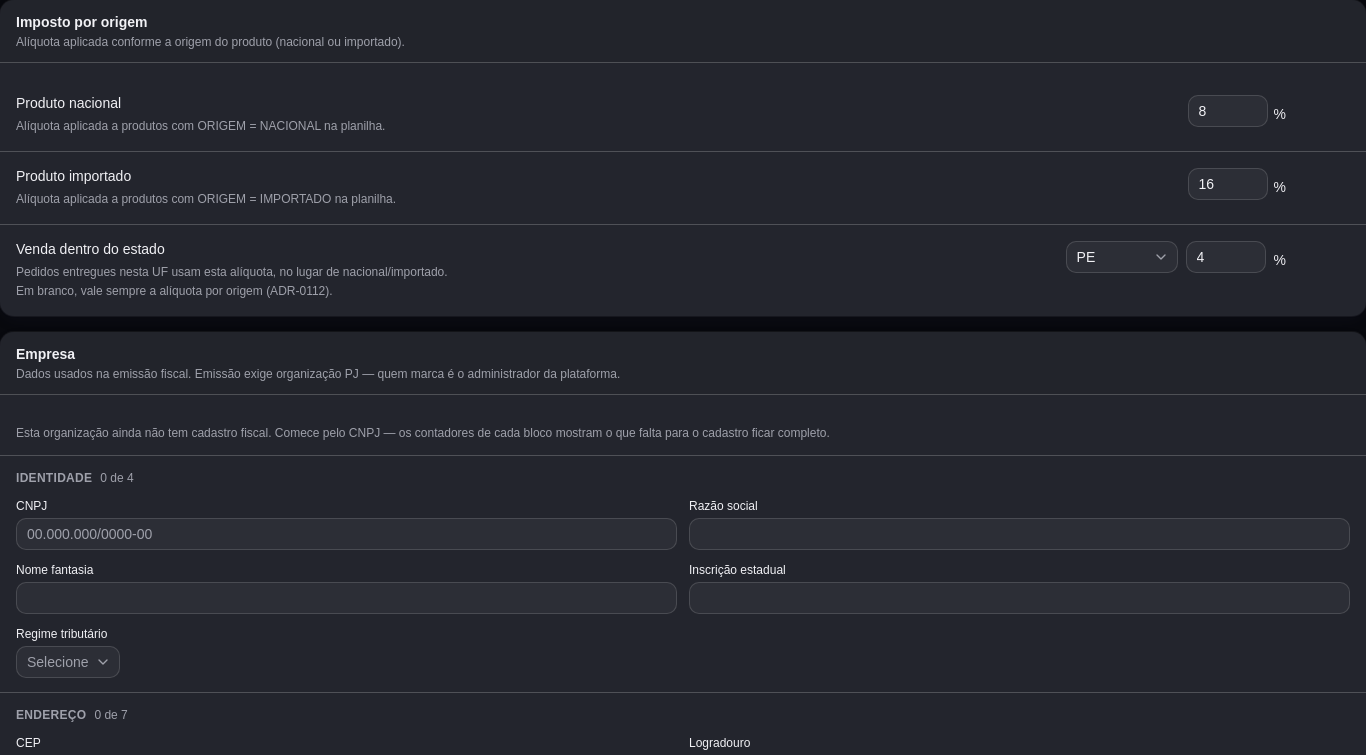
Venda dentro do estado — dropdown de UF › "Nenhuma" limpa UF e % juntos (não cai na meia-configuração)
Click the dropdown named "UF da venda dentro do estado". click: coordinates (1122, 256)
box: [1066,240,1178,272]
(page scrolled)
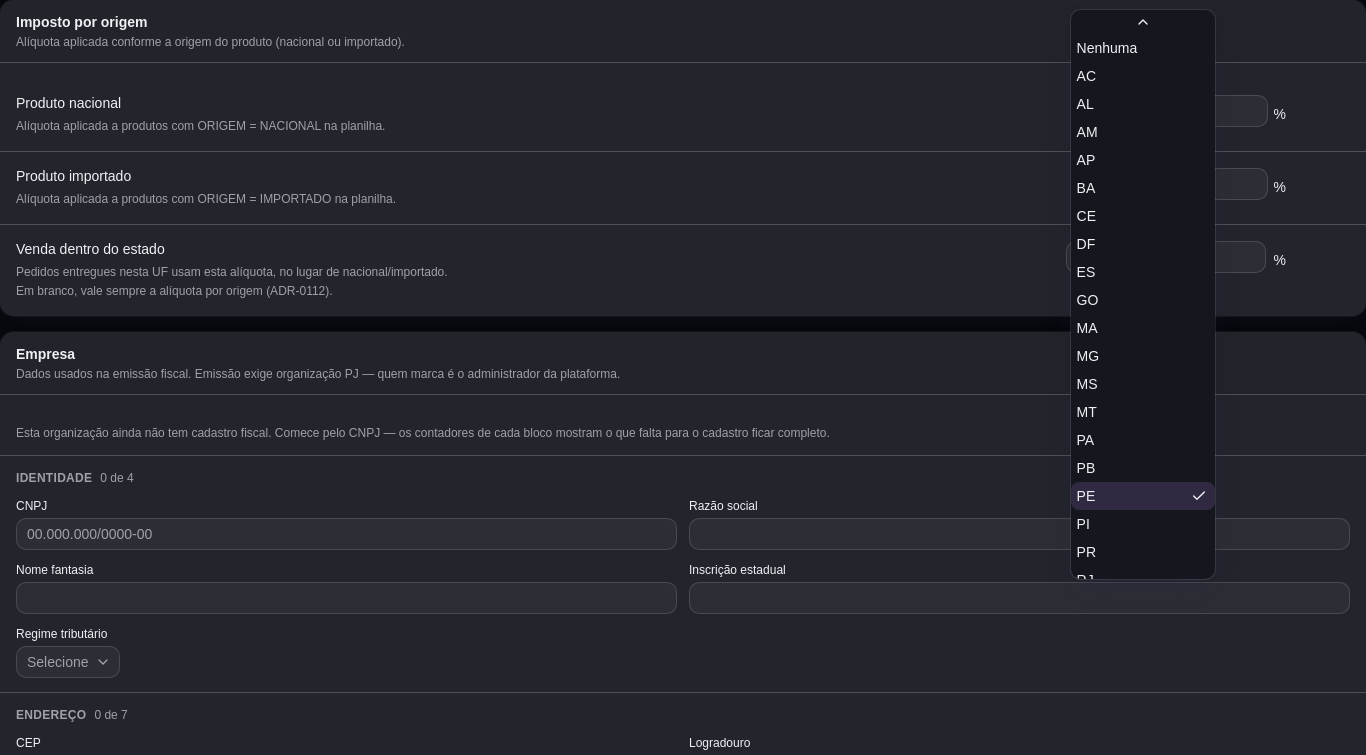
Click the option "Nenhuma". click: coordinates (1107, 48)
box: [1076,40,1137,56]
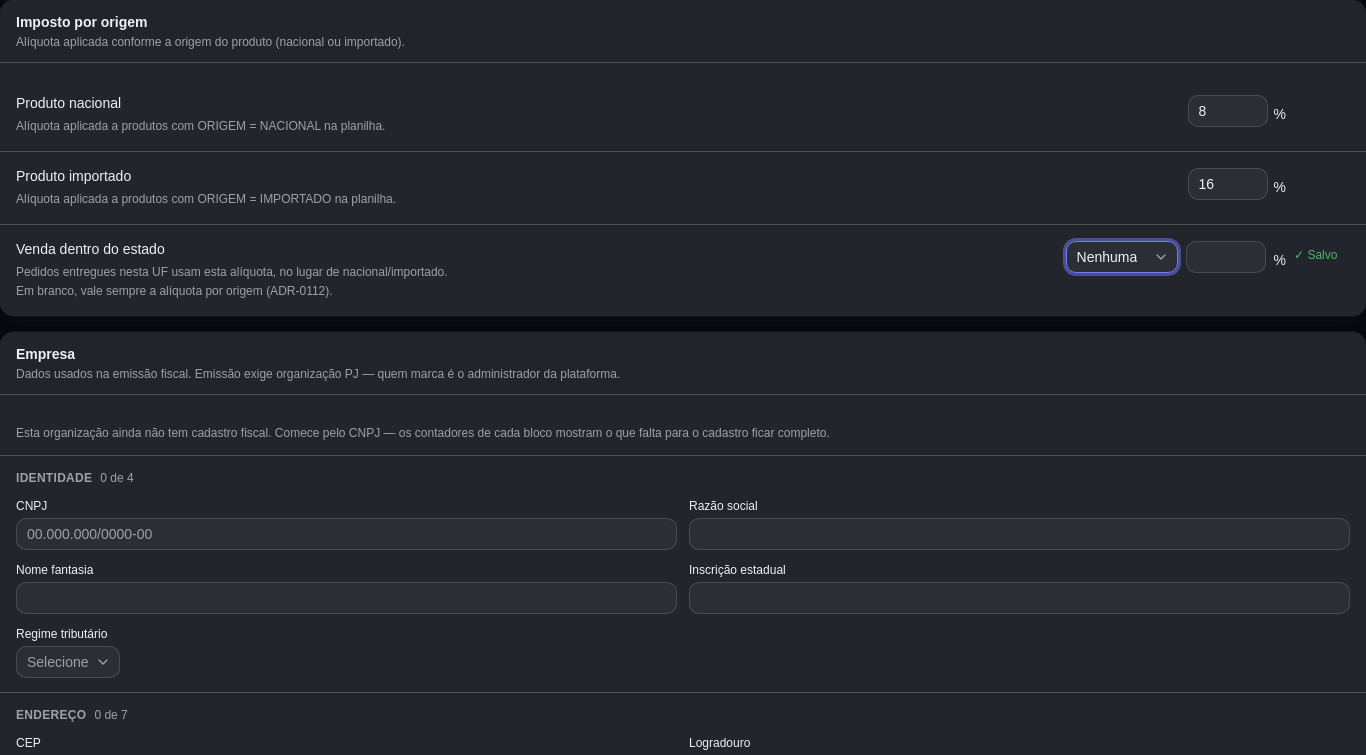
Expected: the number field named "Alíquota dentro do estado" is not empty, [1186,240,1266,272]
